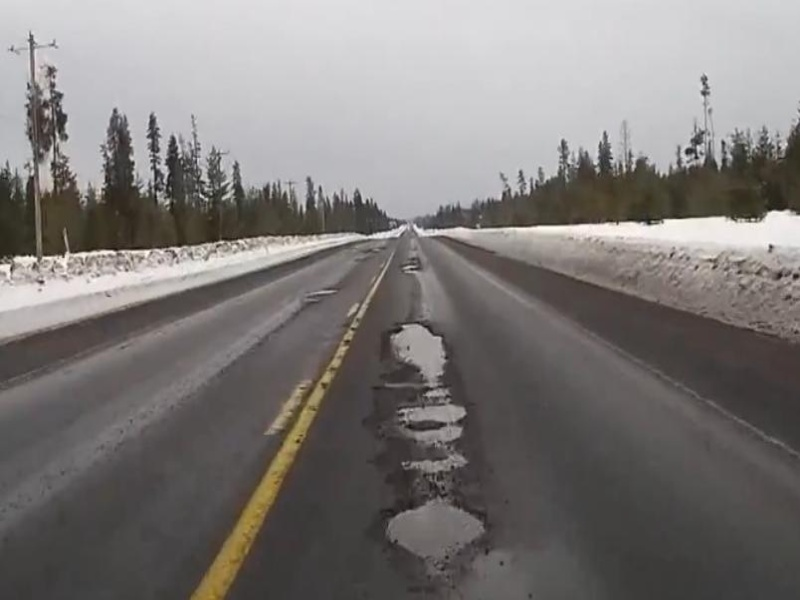pothole: (380, 493, 493, 558), (383, 320, 457, 383), (390, 447, 471, 481), (395, 400, 469, 426), (403, 423, 473, 447)
